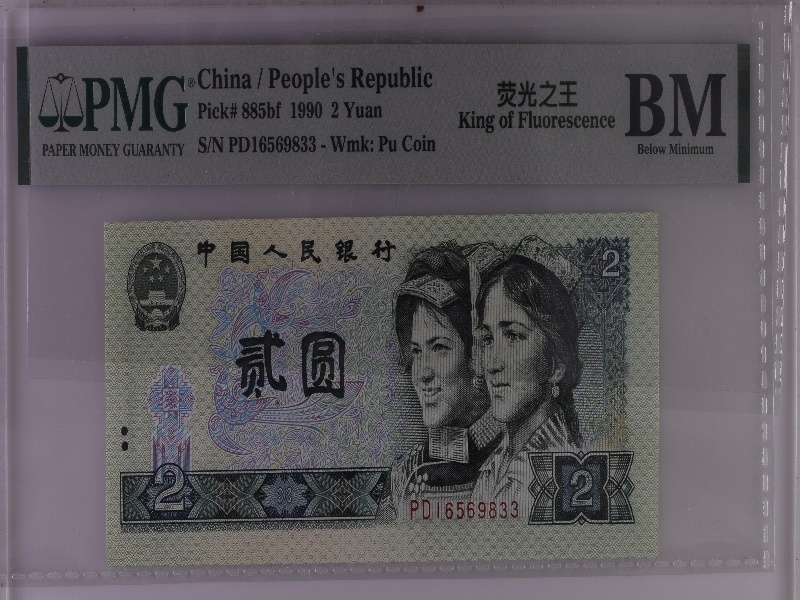papernote: (102, 208, 659, 565)
